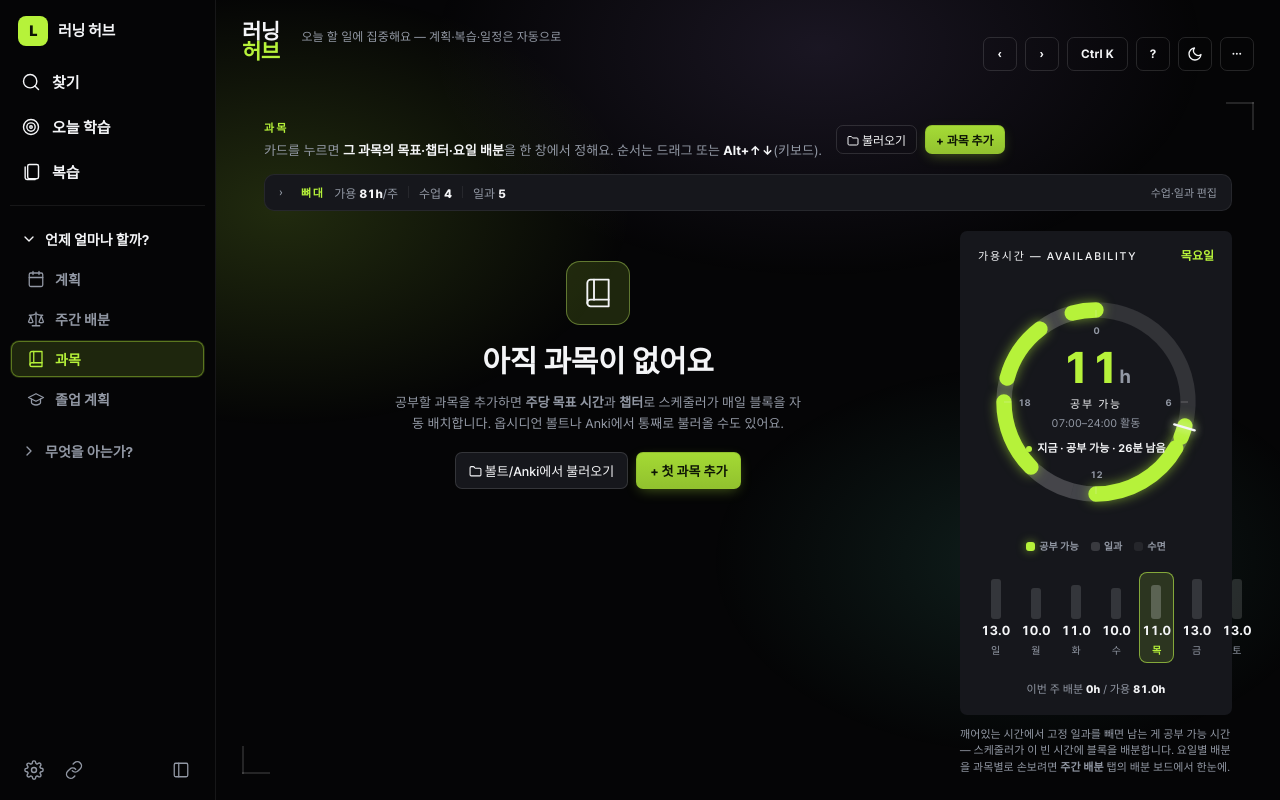
Test: items: 과목 추가가 store(앱상태)에 반영된다
This screenshot has width=1280, height=800.
What coordinates should you click on to do the following:
click the button "+ 과목 추가"
I would click on:
 (965, 140)
Its box is [925,125,1005,154].
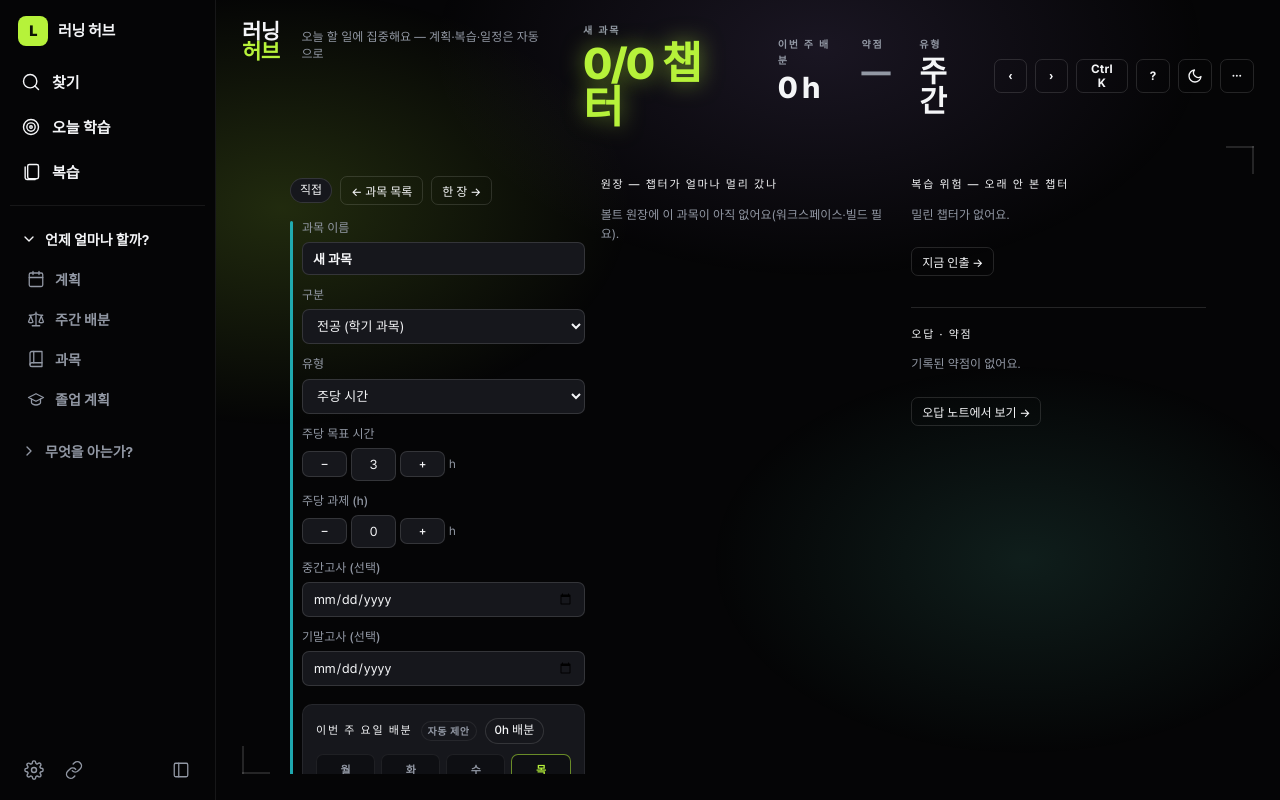
Expected: the field showing "새 과목" is shown, [302,242,585,275]
